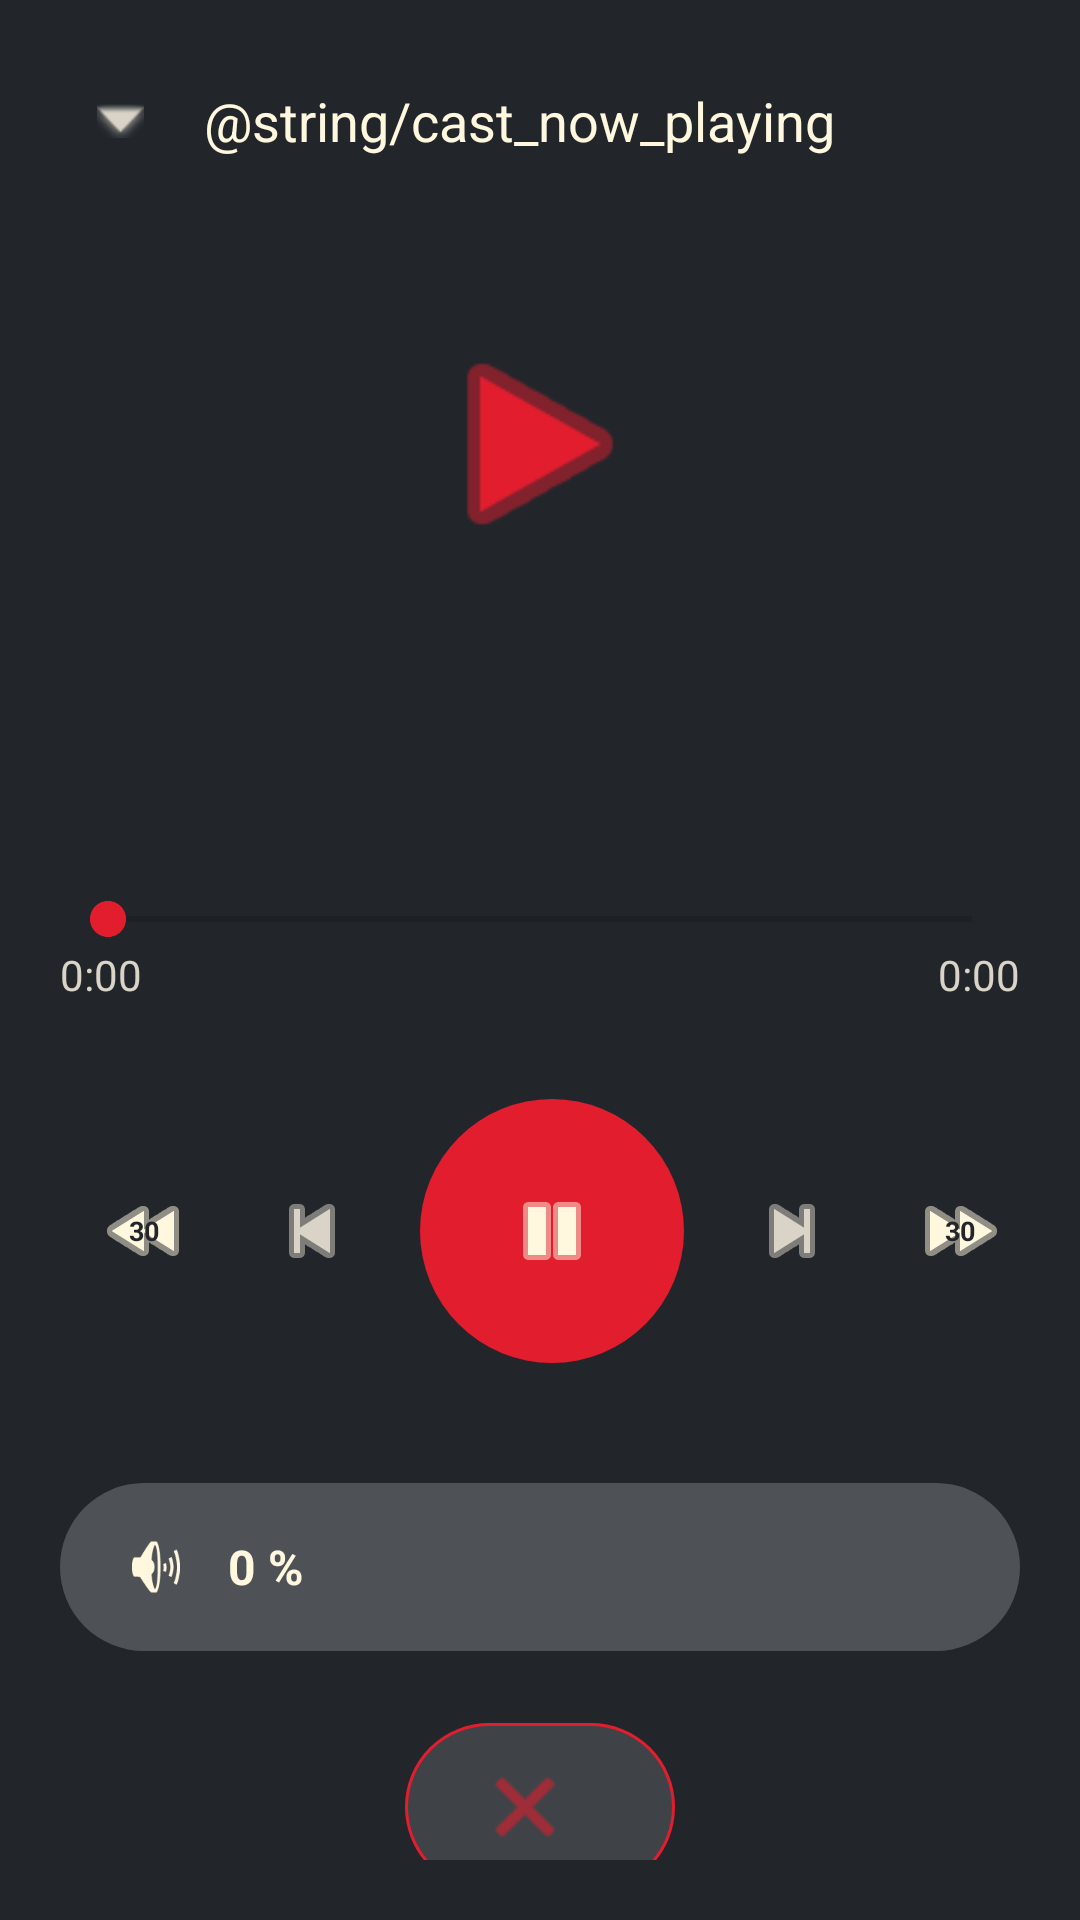

Icon click points for this 1080 × 1920 phone screenshot, format (x=x, y=y):
arrow down float: (x=120, y=120)
lock silent mode off: (x=156, y=1567)
next: (x=792, y=1231)
pause: (x=552, y=1231)
play: (x=540, y=444)
previous: (x=312, y=1231)
rew: (x=143, y=1231)
